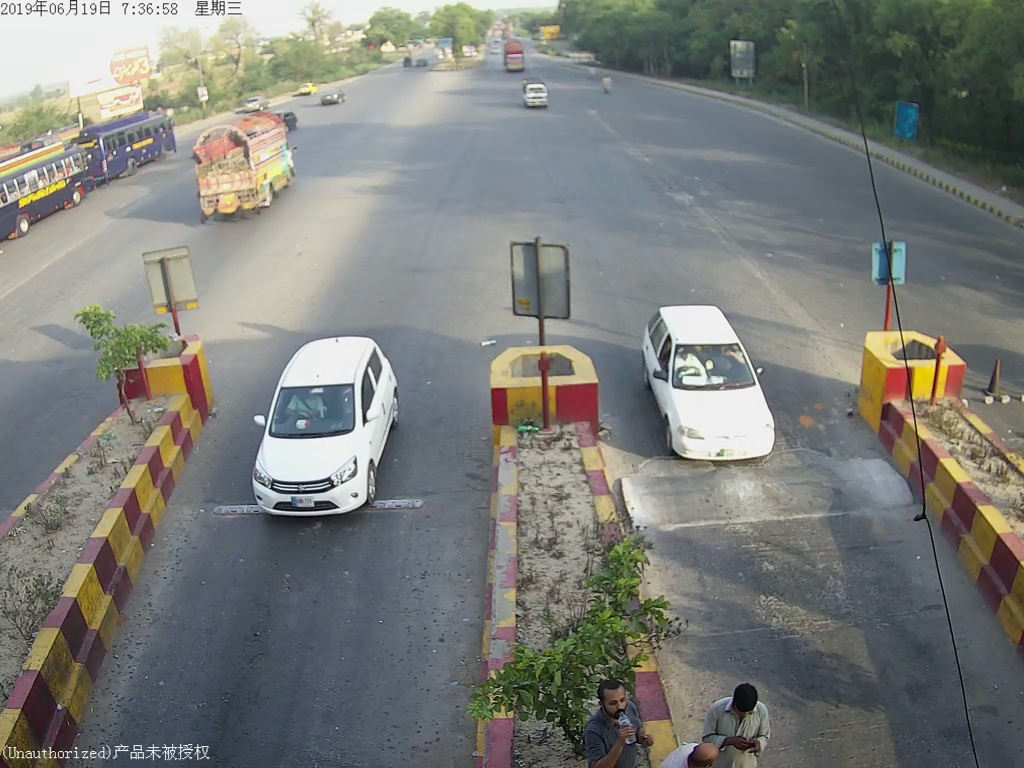Cat-1: (250, 334, 407, 518), (648, 299, 783, 459)
